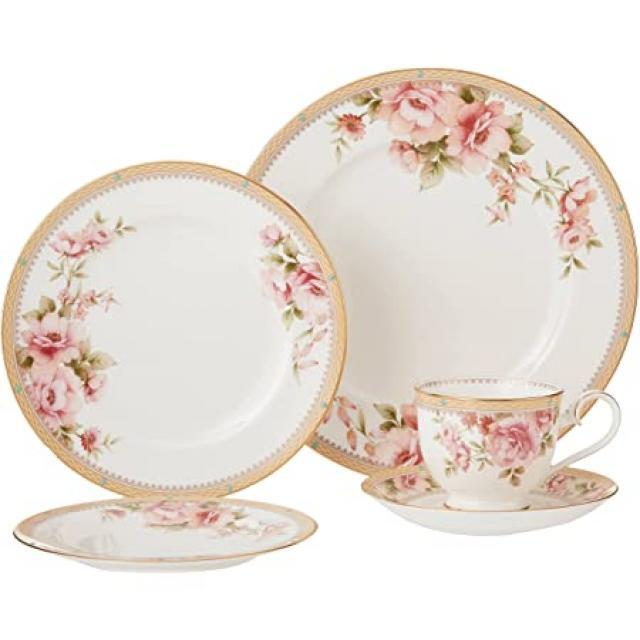ceramic plate: (260, 80, 640, 530), (4, 143, 383, 518), (27, 474, 380, 614)
